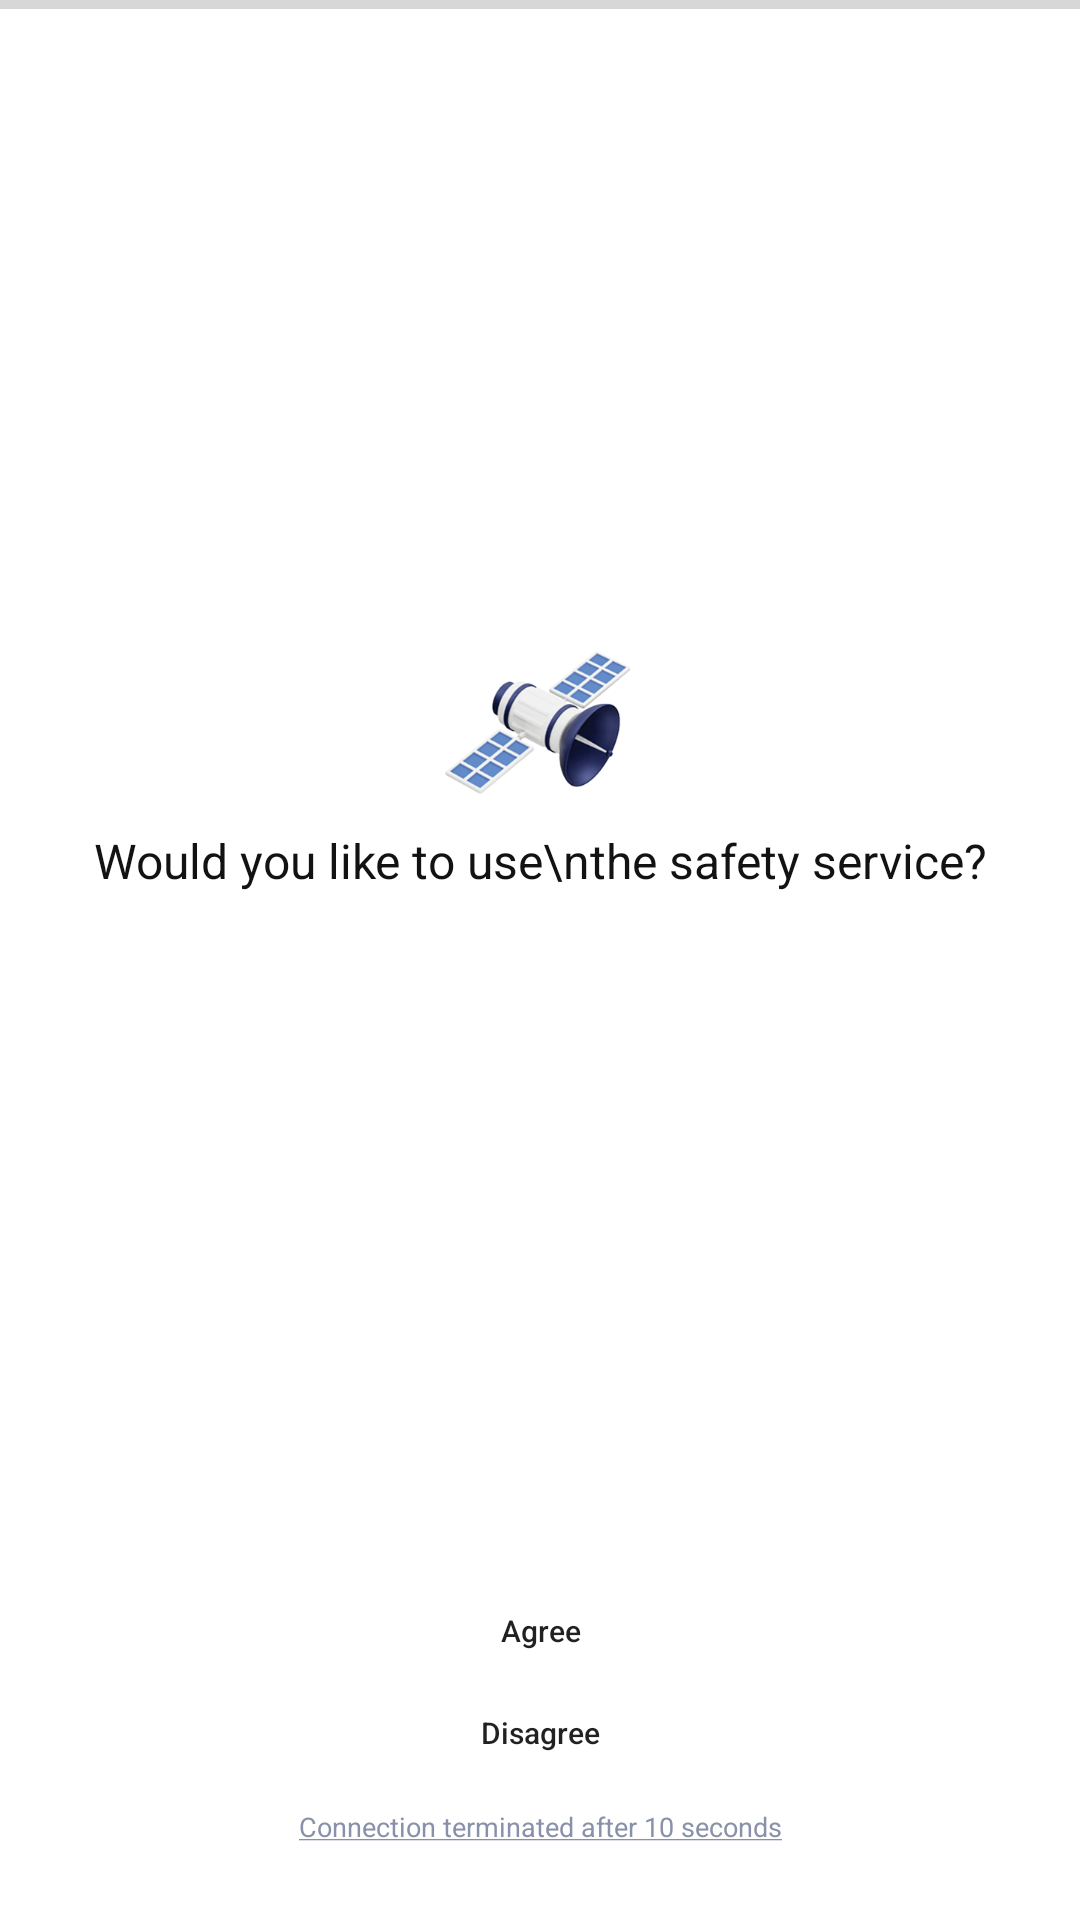

Point at icon controls on the screen. Image size 1080w x 1920h, points as (x=x, y=y).
sat: (x=538, y=723)
